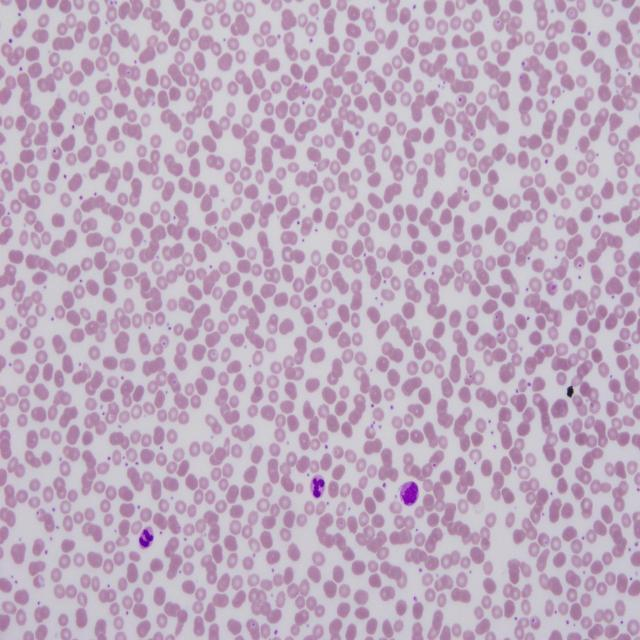cell: (138, 525, 154, 550), (310, 475, 325, 497)
